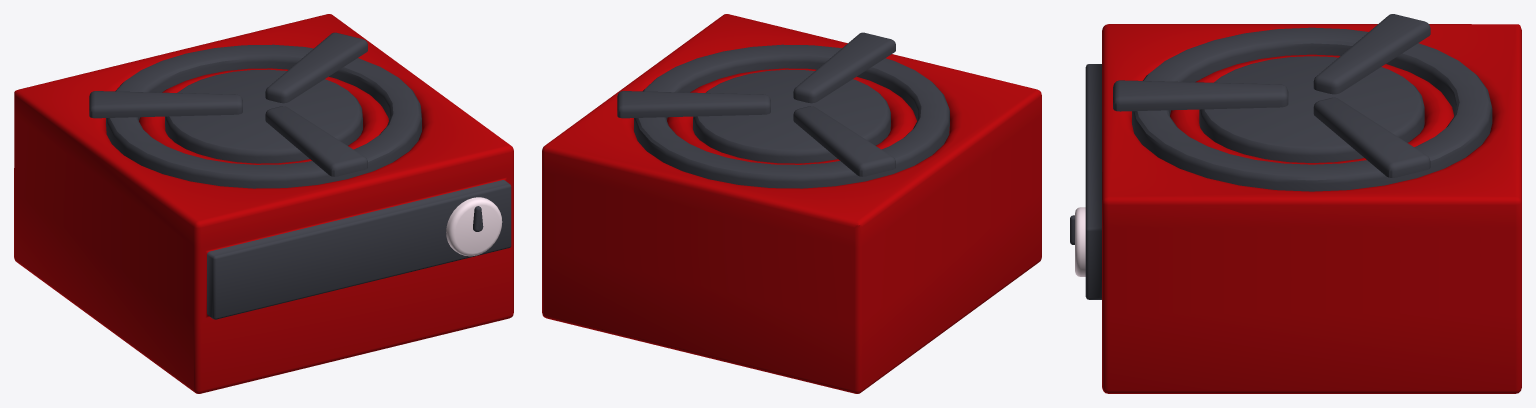
File: SM_Stove.fbx
The picture shows the model from 3 angles, left to right: view 1: azimuth 30°, elevation 25°; view 2: azimuth 150°, elevation 25°; view 3: azimuth 270°, elevation 25°; orthographic projection. The views are drawn at different scales.
Visible parts, largest first — view 1: Stove, Stove_Button; view 2: Stove; view 3: Stove, Stove_Button.
Part boxes in pixels (x1,y1,x2,y2): Stove: (14,14,513,393); Stove_Button: (446,197,502,256); Stove: (542,14,1041,393); Stove: (1085,14,1521,393); Stove_Button: (1070,207,1085,276).
Bounding box in the file's own units: 200 × 115 × 215.
